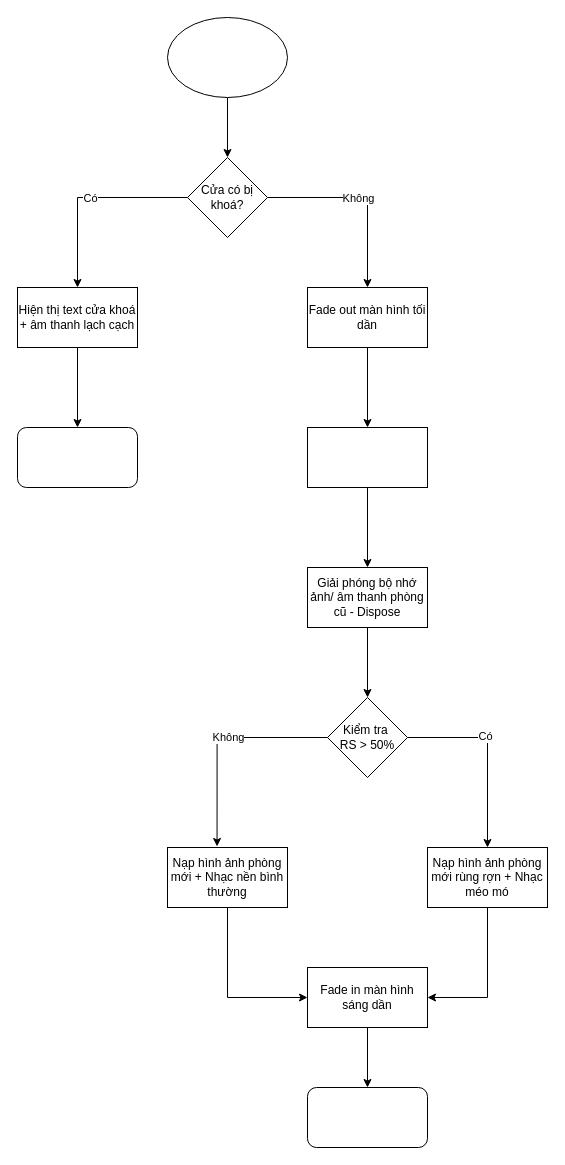
Some shapes in this 565 by 1165 pixel diagram are drawn without their labels. Each missing label, with the centre of its shape:
Click vào ô chuyển cảnh: the point at 227,57
Giữ nguyên cảnh hiện tại: the point at 77,457
Lưu trạng thái phòng cũ vào Model/File: the point at 367,457
Người chơi ở phòng mới, tiếc tục điều khiển: the point at 367,1117
